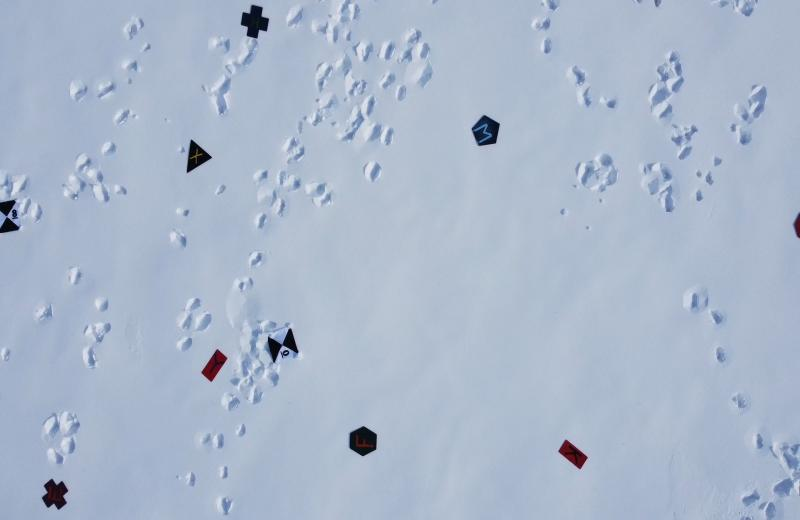Cross: (233, 0, 274, 45), (9, 444, 40, 482)
Hexagon: (314, 412, 352, 449)
Pentagon: (466, 109, 503, 150)
Rectangle: (170, 324, 206, 367), (524, 436, 560, 476)
Triangle: (182, 135, 218, 176)
